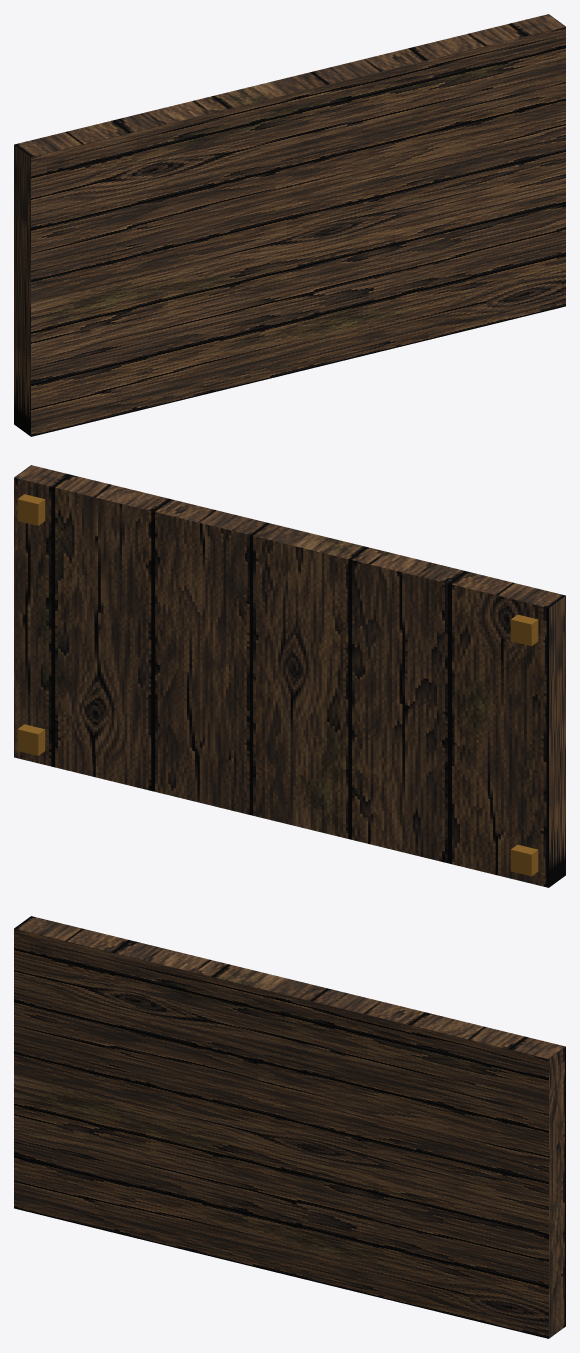
File: C20_Placa_Base.obj
3 views of the same model, one above another, from view 1: azimuth 30°, elevation 25°; view 2: azimuth 150°, elevation 25°; view 3: azimuth 330°, elevation 25° (orthographic).
Visible parts, largest first — view 1: C20_Placa_Base; view 2: C20_Placa_Base; view 3: C20_Placa_Base.
Boxes of the visible parts, x1=… form: C20_Placa_Base: x1=14, y1=14, x2=565, y2=436; C20_Placa_Base: x1=14, y1=465, x2=565, y2=887; C20_Placa_Base: x1=14, y1=916, x2=565, y2=1338.
Size of the model in its own units: 1.8 by 0.9 by 0.14.
Materials: 2 (1 with a texture image).
